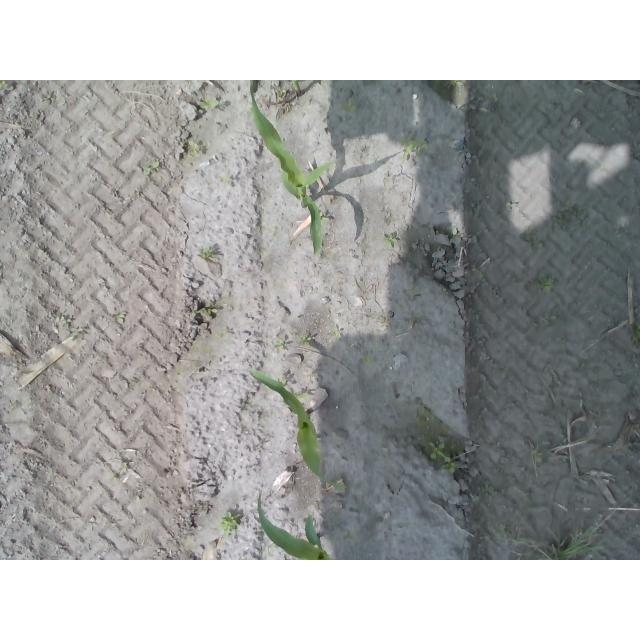Maize: (249, 90, 335, 261), (250, 368, 338, 485), (254, 488, 330, 560)
Weeds: (425, 441, 456, 474), (554, 201, 585, 226), (55, 315, 84, 338), (403, 136, 427, 153), (219, 512, 239, 532), (324, 479, 348, 495), (189, 306, 219, 318), (537, 312, 560, 327), (537, 276, 556, 292), (526, 232, 544, 248), (188, 140, 201, 161), (144, 161, 161, 176), (340, 99, 356, 114), (531, 450, 545, 467), (479, 483, 495, 497), (384, 235, 398, 249), (272, 338, 284, 352), (363, 355, 378, 366), (200, 247, 216, 257), (203, 99, 217, 109), (114, 313, 127, 323), (330, 329, 343, 339), (450, 81, 465, 88), (439, 288, 450, 297), (301, 336, 311, 345)
